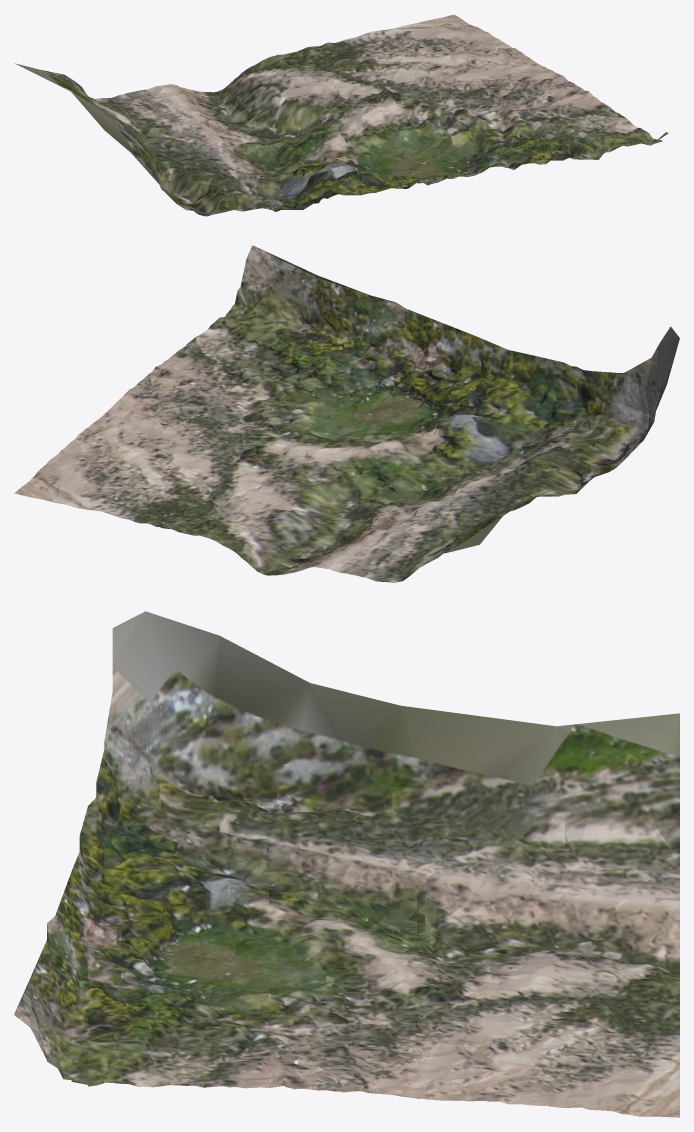
The model's file is MODELO1.glb.
3 renders of one model, top to bottom at view 1: azimuth 30°, elevation 25°; view 2: azimuth 150°, elevation 25°; view 3: azimuth 270°, elevation 25°, orthographic. The views are drawn at different scales.
Bounding box in the file's own units: 47.88 × 14.36 × 40.5.
1 material, 1 textured.
